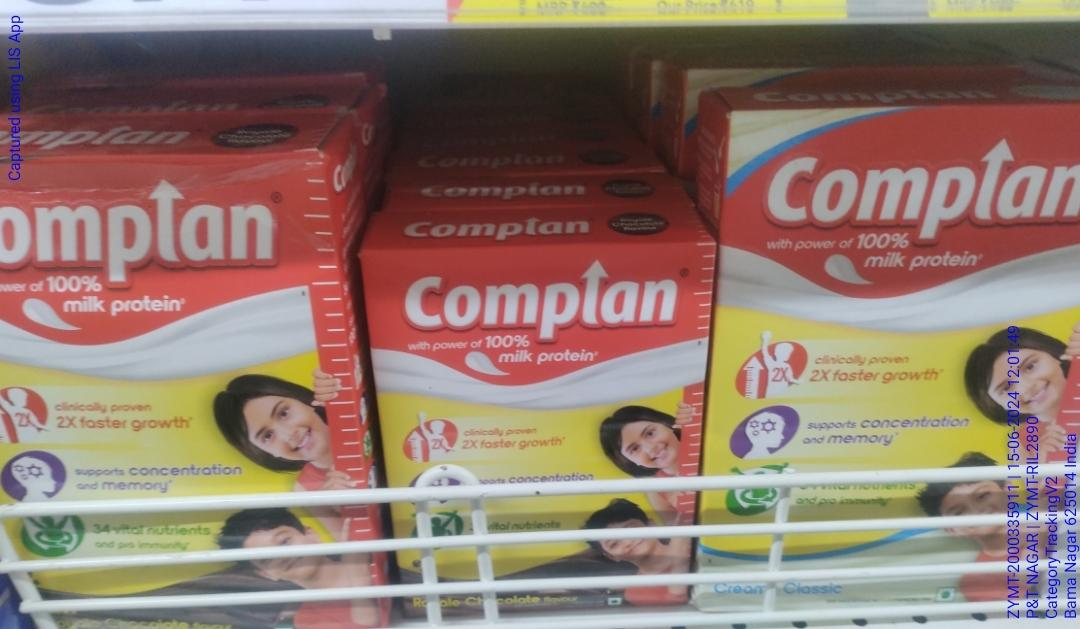COMPLAN_CHOCOLATE_200_GMS_PACK: (374, 255, 695, 612)
COMPLAN_CHOCOLATE_500_GMS_PACK: (0, 176, 361, 629)
COMPLAN_CREAMY_CLASSIC_500_G_PACK: (714, 106, 1077, 619)
